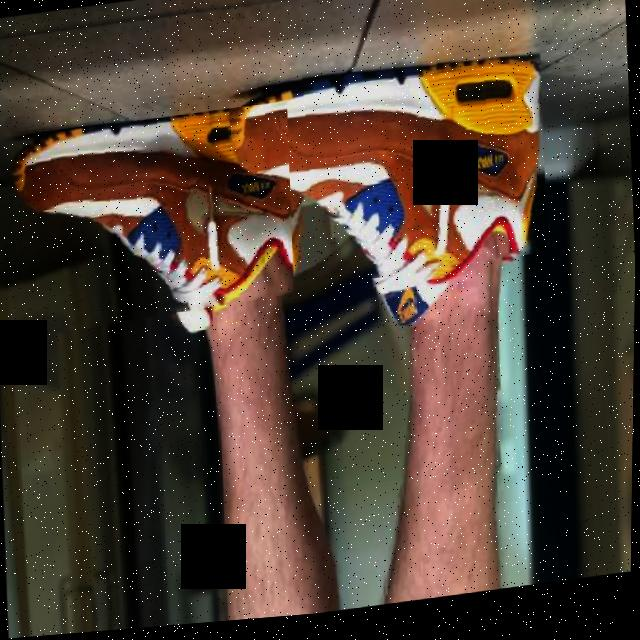shoe: (232, 51, 552, 303), (6, 105, 298, 341)
